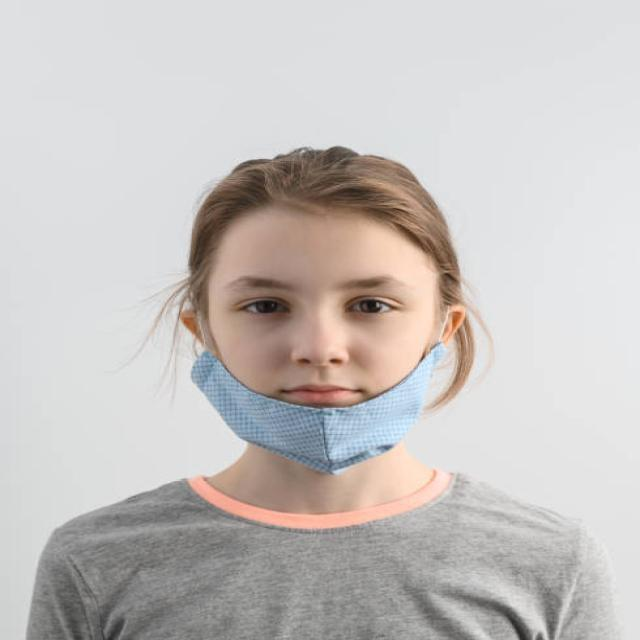hairnet: (195, 341, 436, 474)
